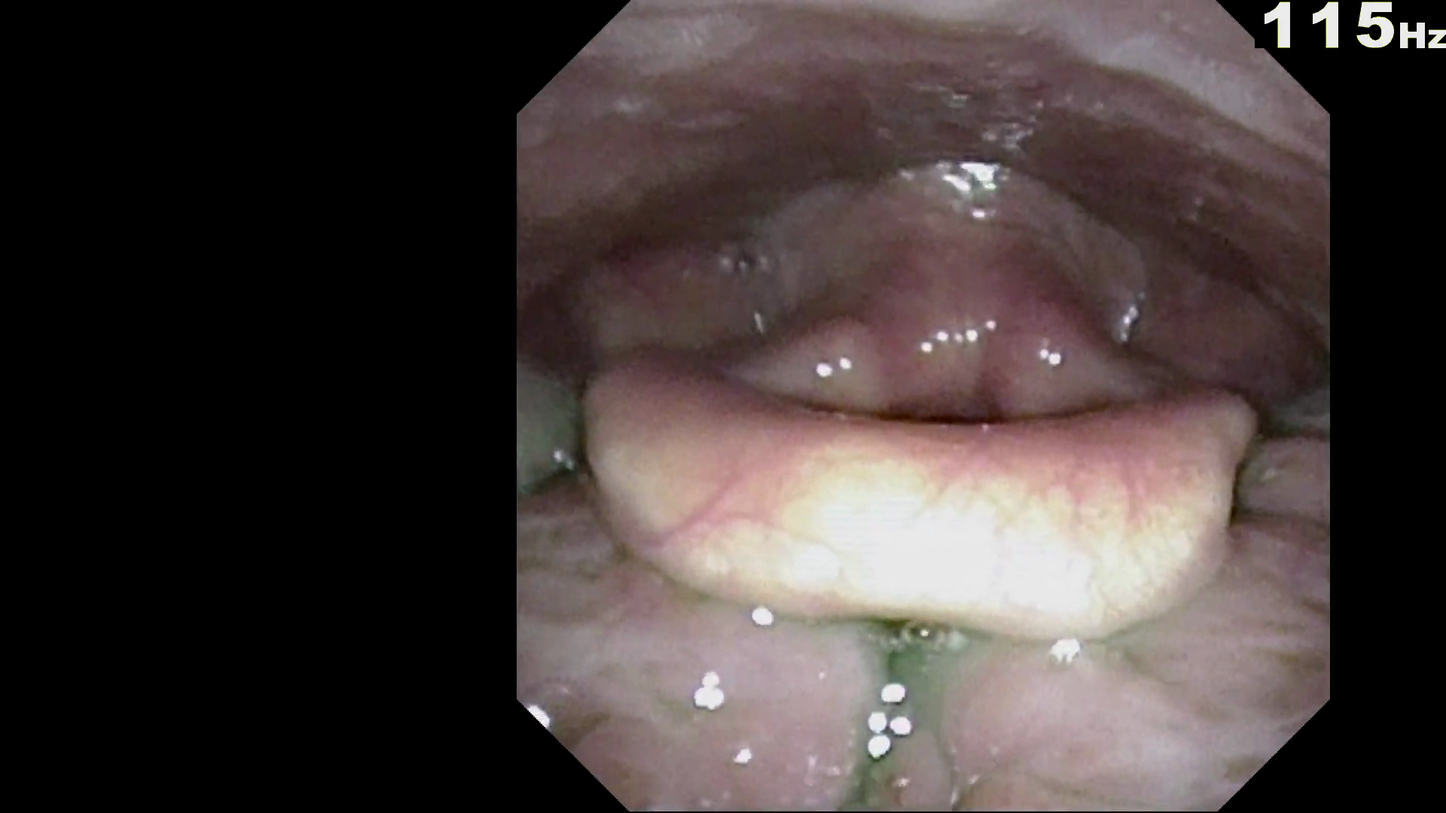epiglottis: (551, 334, 1276, 616)
trachea: (920, 339, 1046, 483), (859, 355, 1045, 447)
